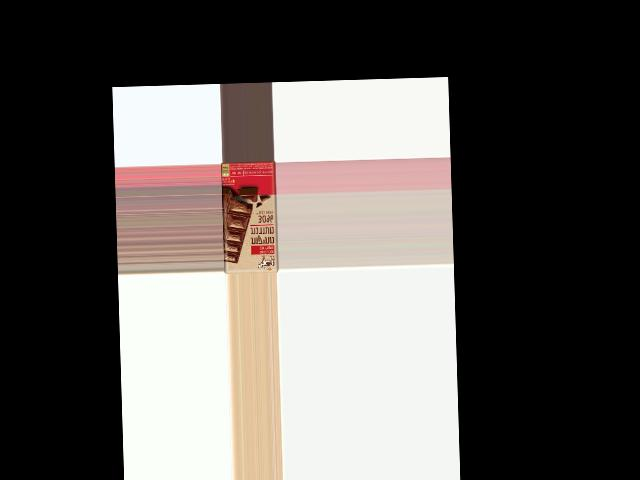chocolate: (221, 161, 279, 274)
